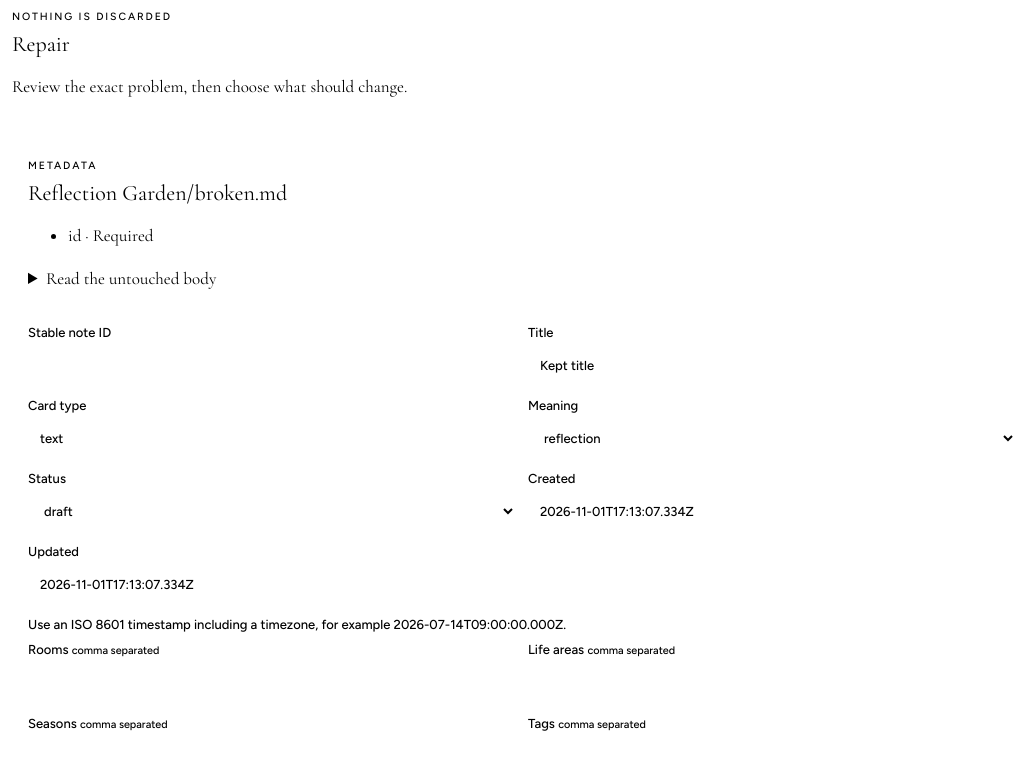
it: RepairPanel › shows exact metadata errors and the untouched raw body before repair
The image size is (1036, 780).
Expected: the list item "id · Required" is shown, [68, 225, 153, 246]
Click the heading "Read the untouched body" at (131, 279), box [46, 268, 216, 290]
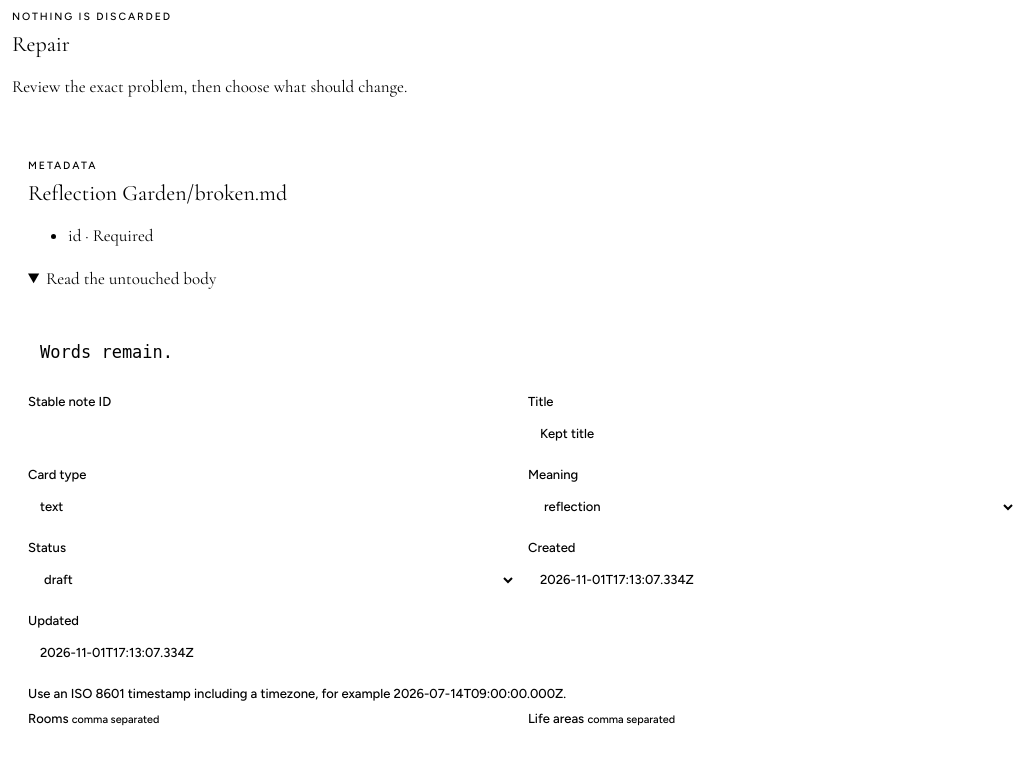
Expected: the field showing "Kept title" is shown, [528, 412, 1016, 456]
Result: the text "Words remain." is shown at [40, 342, 173, 362]
